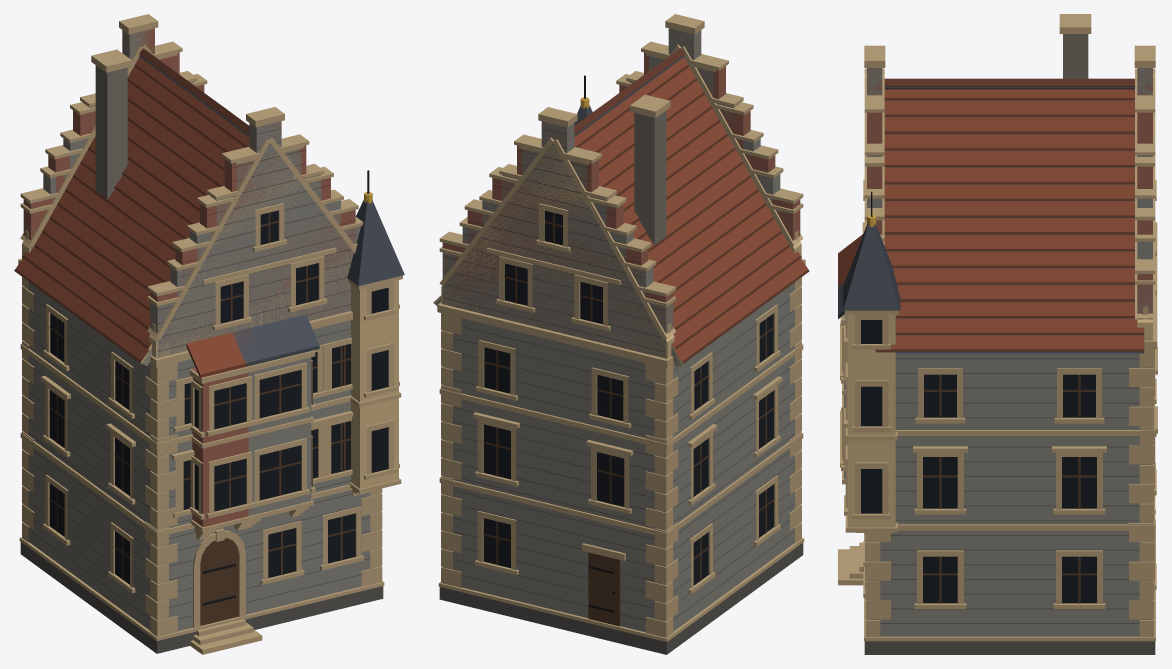
The model's file is einwohner_ratsherrenhaus.glb.
The picture shows the model from 3 angles, left to right: view 1: azimuth 30°, elevation 25°; view 2: azimuth 150°, elevation 25°; view 3: azimuth 270°, elevation 25°; orthographic projection. The views are drawn at different scales.
Parts seen in each view (by area): view 1: Variante1, Variante2, Variante3; view 2: Variante1, Variante2, Variante3; view 3: Variante1, Variante2, Variante3.
Part boxes in pixels (left/top/right/bottom): Variante1: left=18, top=23, right=384, bottom=654; Variante2: left=14, top=44, right=404, bottom=515; Variante3: left=20, top=14, right=358, bottom=539; Variante1: left=435, top=23, right=805, bottom=654; Variante2: left=433, top=44, right=809, bottom=366; Variante3: left=439, top=14, right=803, bottom=356; Variante1: left=838, top=30, right=1157, bottom=654; Variante2: left=843, top=14, right=1155, bottom=534; Variante3: left=838, top=45, right=1155, bottom=438.
Bounding box in the file's own units: 7.96 × 15.55 × 8.28.
